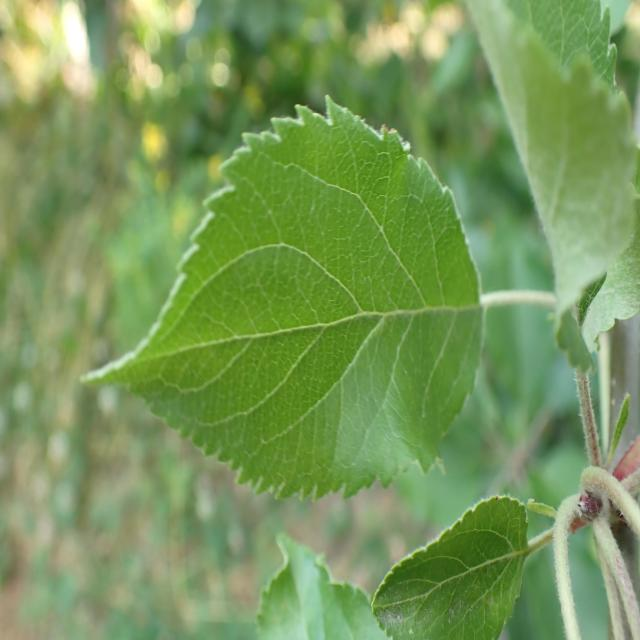healthy: (78, 95, 484, 502), (466, 2, 639, 356), (370, 493, 529, 640), (256, 530, 388, 640)
